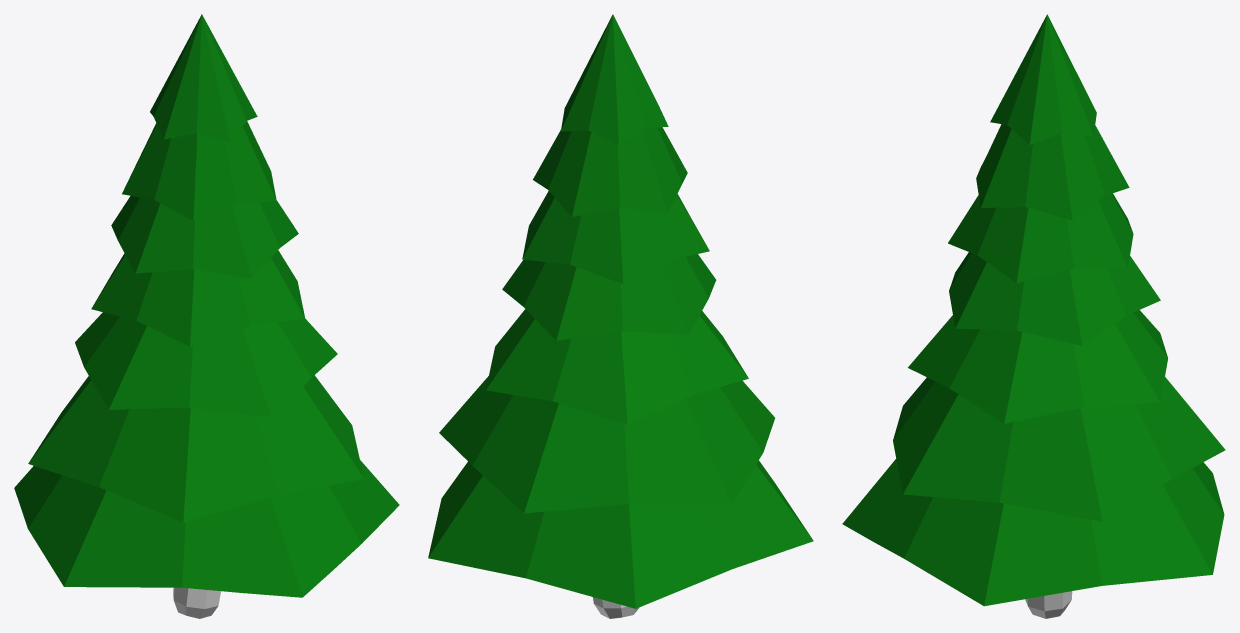
The model's file is tree_fir01.fbx.
3 renders of one model, left to right at view 1: azimuth 30°, elevation 25°; view 2: azimuth 150°, elevation 25°; view 3: azimuth 270°, elevation 25°, orthographic.
Parts seen in each view (by area): view 1: Cylinder.001, Tree_Fir; view 2: Cylinder.001, Tree_Fir; view 3: Cylinder.001, Tree_Fir.
Boxes of the visible parts, <box> form: Cylinder.001: <box>14,14,399,597</box>; Tree_Fir: <box>173,587,220,618</box>; Cylinder.001: <box>428,14,813,608</box>; Tree_Fir: <box>593,597,638,618</box>; Cylinder.001: <box>842,14,1225,606</box>; Tree_Fir: <box>1025,591,1072,618</box>.
Bounding box in the file's own units: 261 × 447 × 258.
